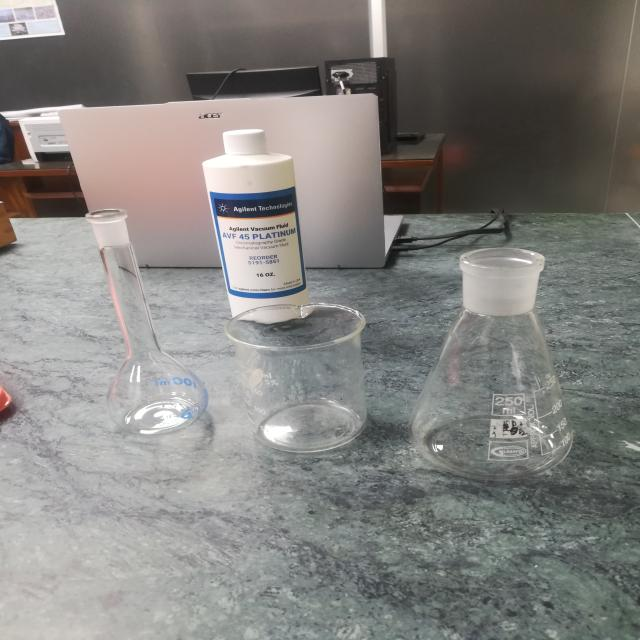Beaker: (220, 287, 399, 468)
Conical_Flask: (409, 230, 607, 500)
Volumetric_Flask: (76, 183, 218, 448)
